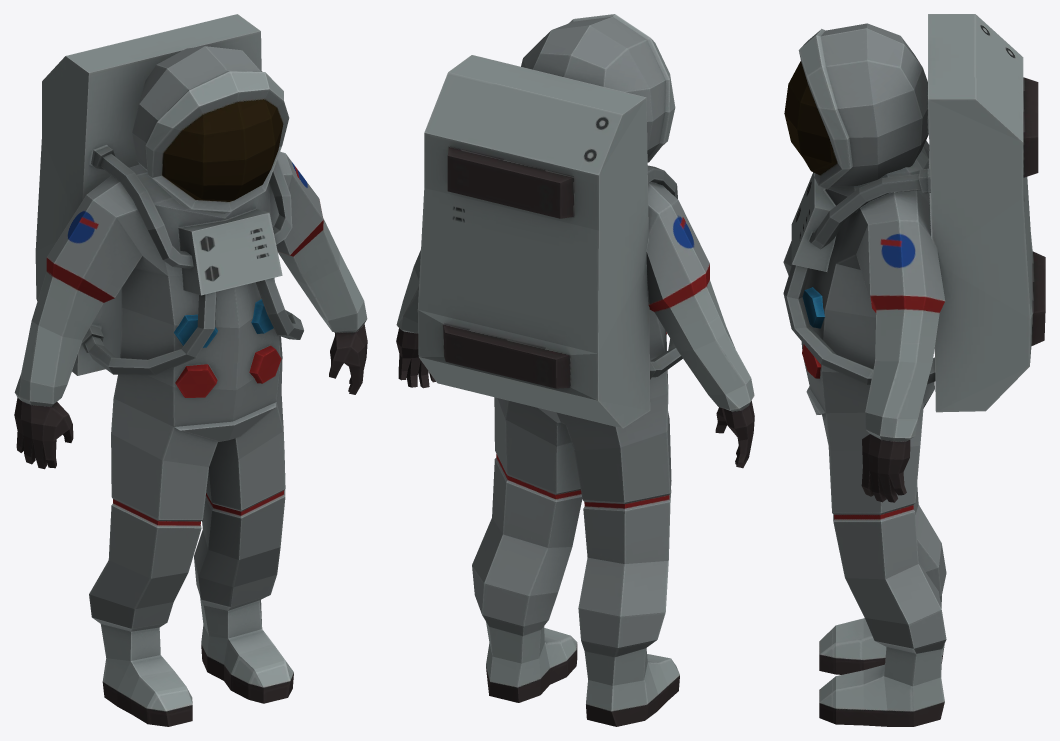
File: gift-placeholder.glb
The picture shows the model from 3 angles, left to right: view 1: azimuth 30°, elevation 25°; view 2: azimuth 150°, elevation 25°; view 3: azimuth 270°, elevation 25°; orthographic projection.
Parts seen in each view (by area): view 1: node-0; view 2: node-0; view 3: node-0.
Boxes of the visible parts, x1=… form: node-0: x1=14, y1=14, x2=367, y2=726; node-0: x1=396, y1=14, x2=754, y2=726; node-0: x1=783, y1=14, x2=1045, y2=726.
Bounding box in the file's own units: 1.12 × 2.01 × 0.7235.
1 material, 1 textured.
